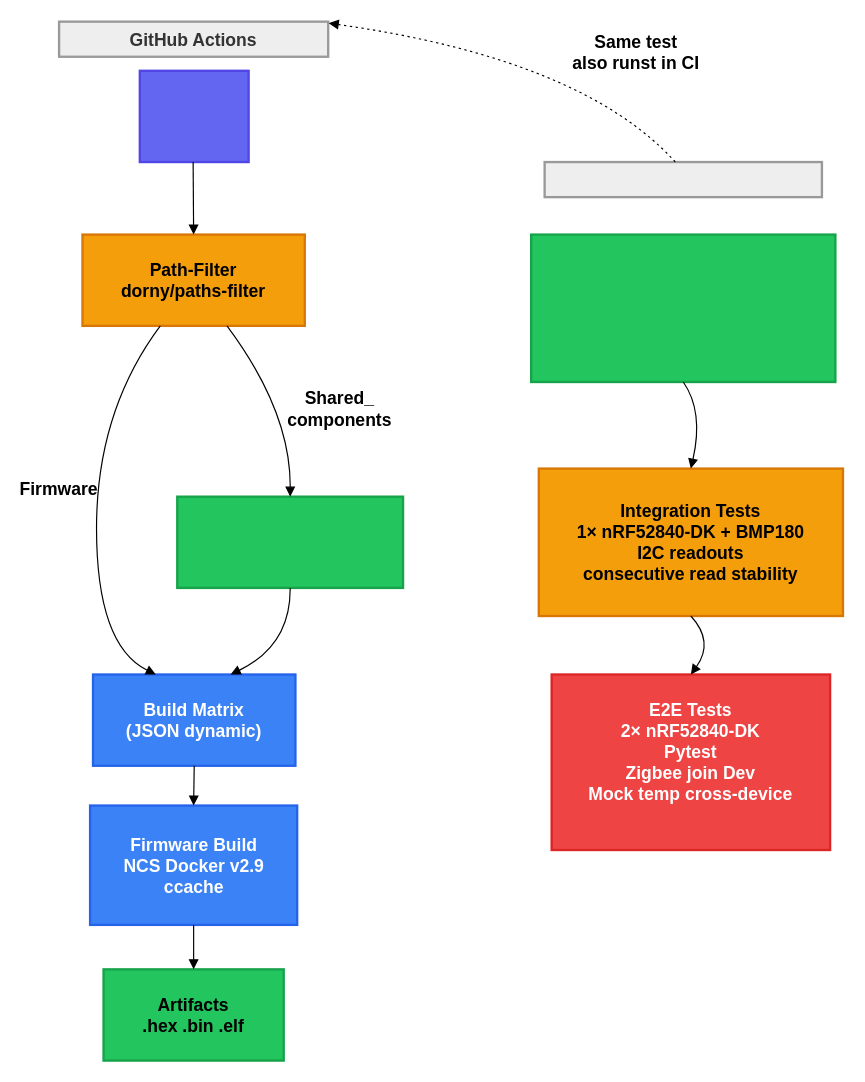
Some shapes in this 865 by 1082 pixel diagram are drawn without their labels. The centre of each missing label's shape, as x and y in pixels:
"Git Push" goes at [193,116].
"Local — Hardware Required" goes at [683,179].
"Unit Tests GCC compile + run" goes at [290,542].
"Unit Tests native_sim / host PC BMP180 math null guards division-by-zero" goes at [682,308].
